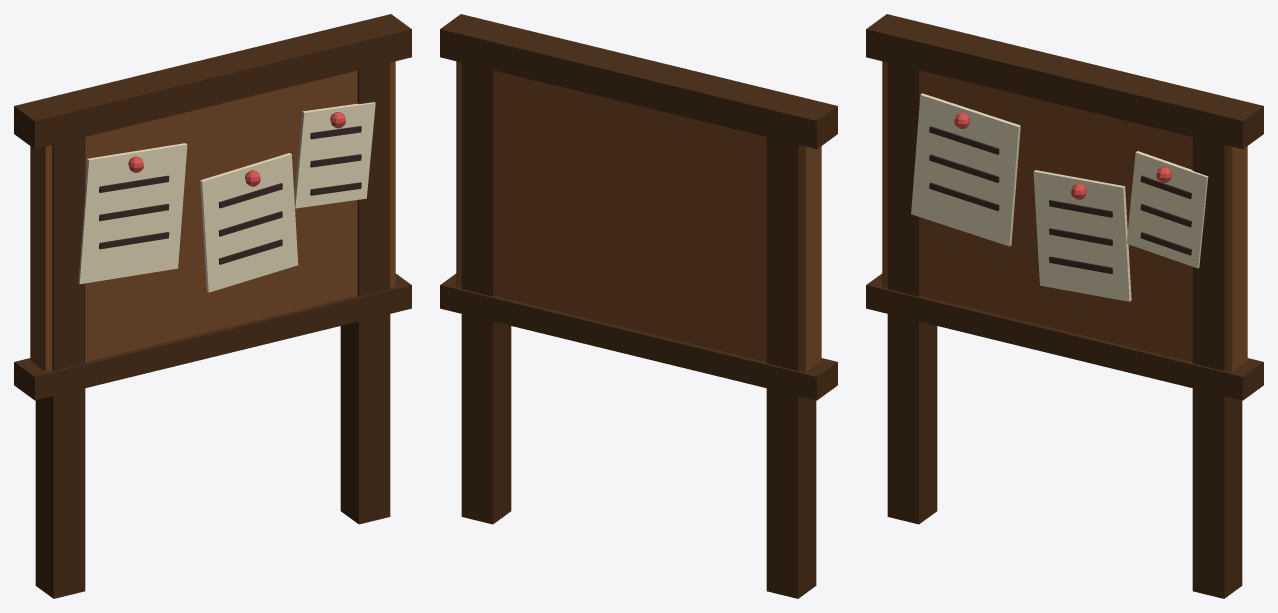
The model's file is camp_board.glb.
The picture shows the model from 3 angles, left to right: view 1: azimuth 30°, elevation 25°; view 2: azimuth 150°, elevation 25°; view 3: azimuth 330°, elevation 25°; orthographic projection.
Parts seen in each view (by area): view 1: Cube; view 2: Cube; view 3: Cube.
Part boxes in pixels (x1,y1,x2,y2): Cube: (14,14,411,598); Cube: (440,14,837,598); Cube: (866,14,1263,598).
Size of the model in its own units: 0.84 by 1.03 by 0.106.
